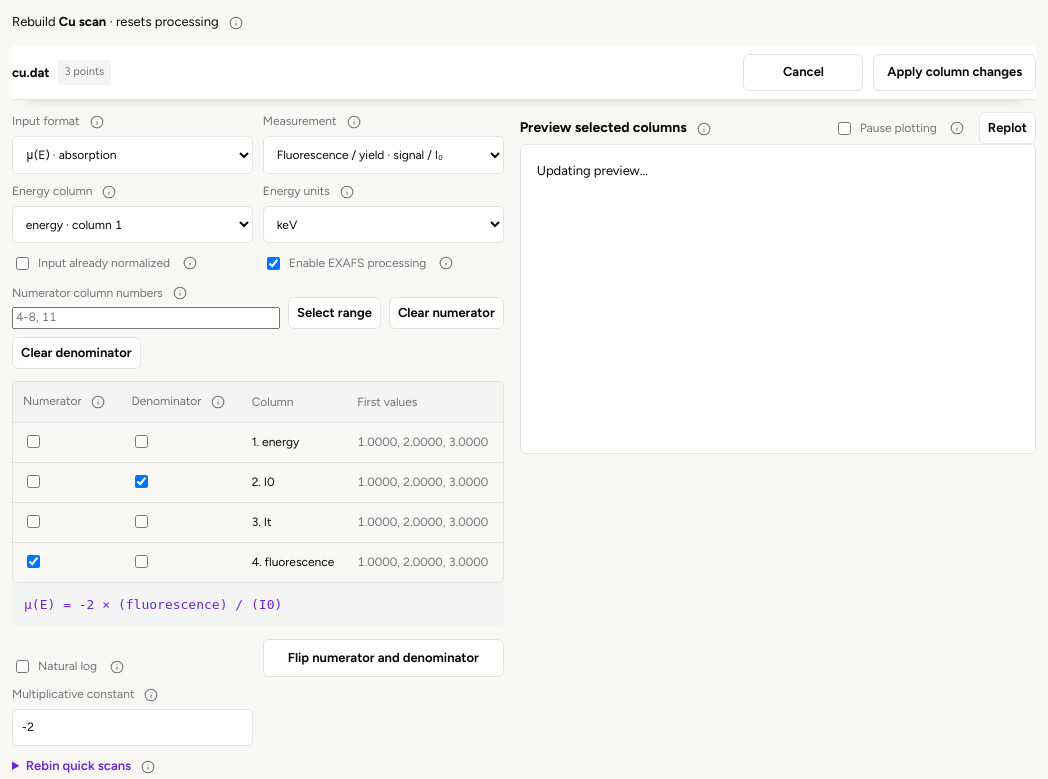
Test case: retains changed selections after a failed apply and offers retry, reload, and cancel
Check: the button "Apply column changes" is shown, box [874,54,1036,91]
Click the checkbox named "Numerator It". click: (34, 522)
box: [27,515,40,528]
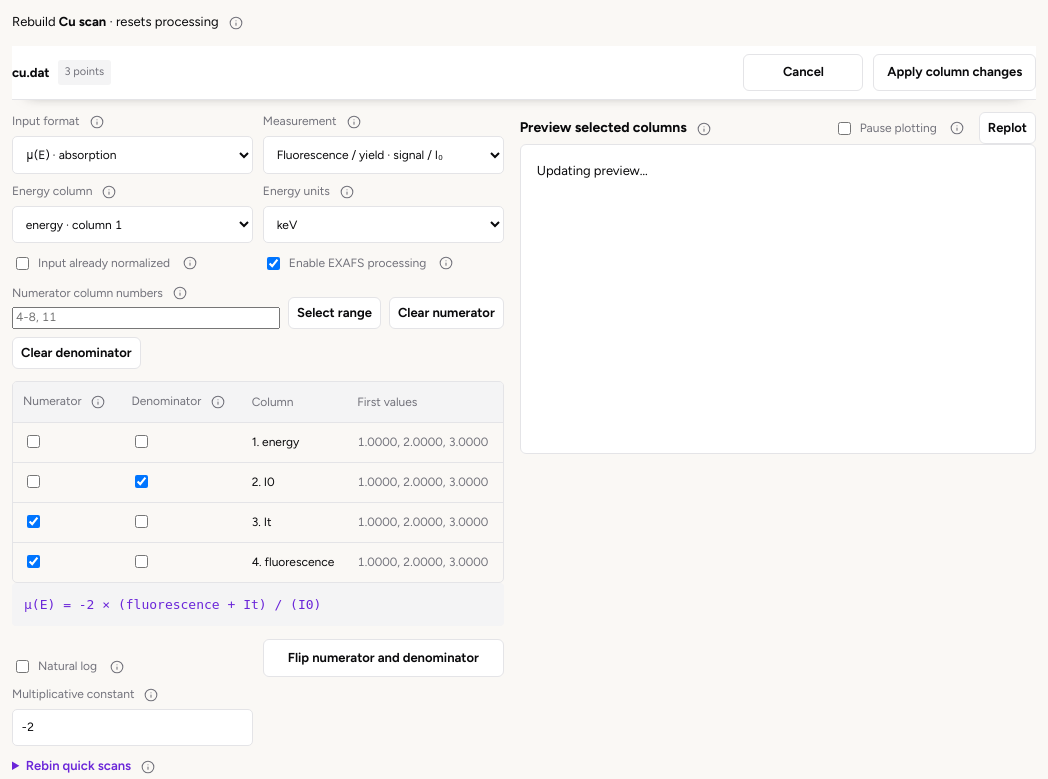
Click the button "Apply column changes". click: (955, 72)
box: [874,54,1036,91]
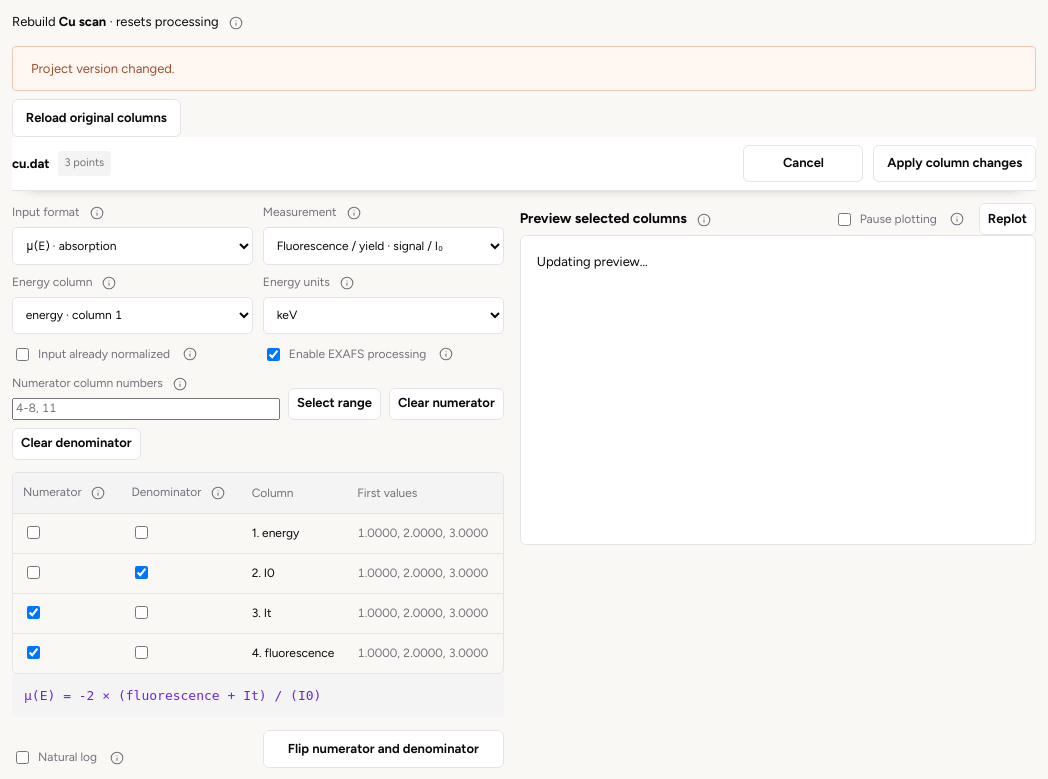
Check: the button "Apply column changes" is enabled, box [874,145,1036,182]
Check: the checkbox named "Numerator It" is checked, box [27,606,40,619]
Check: the message reads "Project version changed.", box [31,61,175,76]
Click the button "Reload original columns". click: (96, 118)
box: [12,99,181,137]
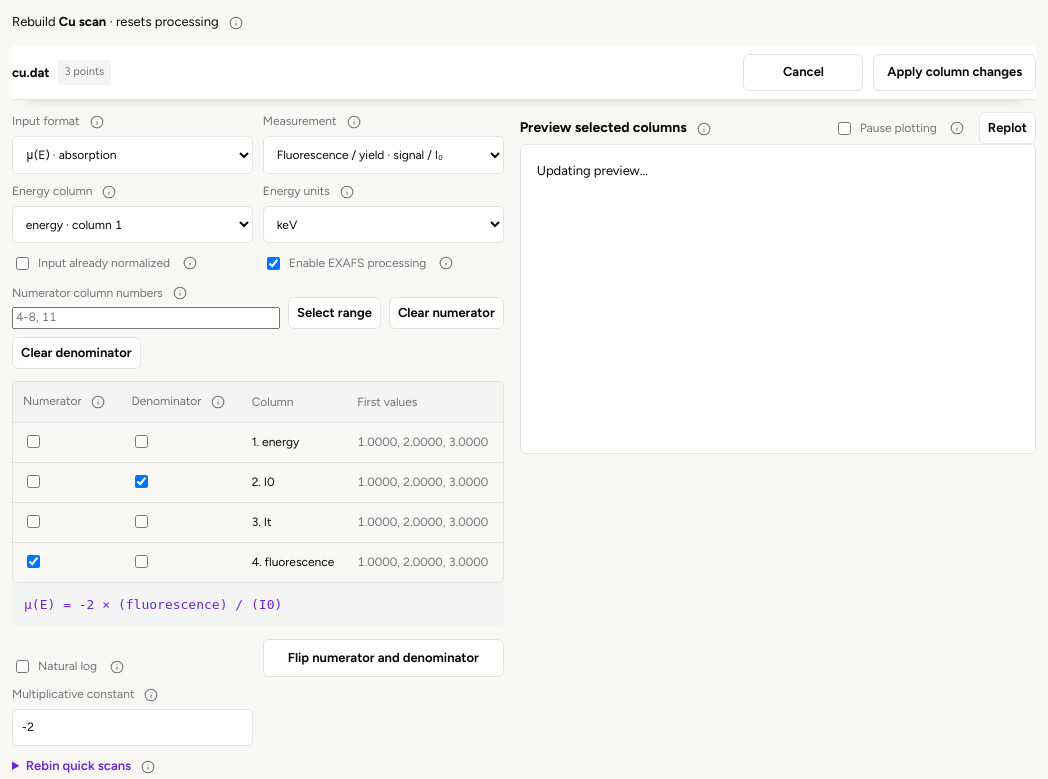
Check: the button "Apply column changes" is shown, box [874,54,1036,91]
Check: the checkbox named "Numerator It" is not checked, box [27,515,40,528]
